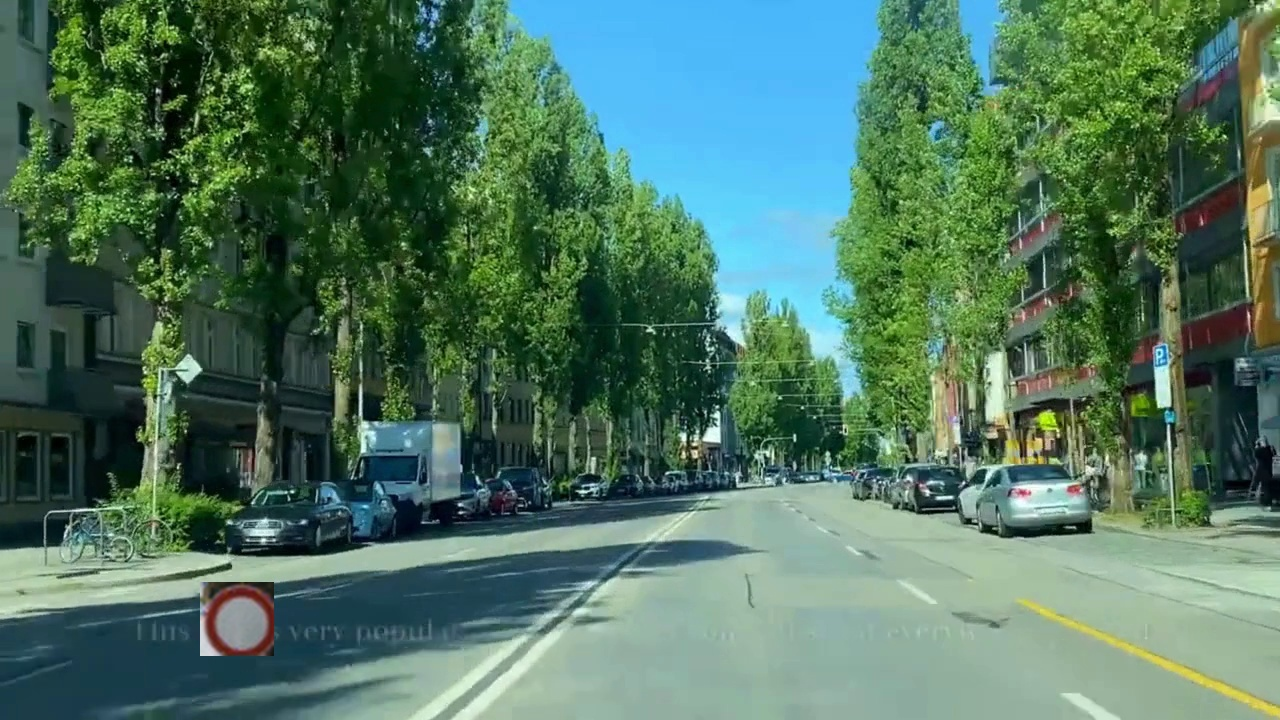No vehicles: (200, 582, 274, 656)
